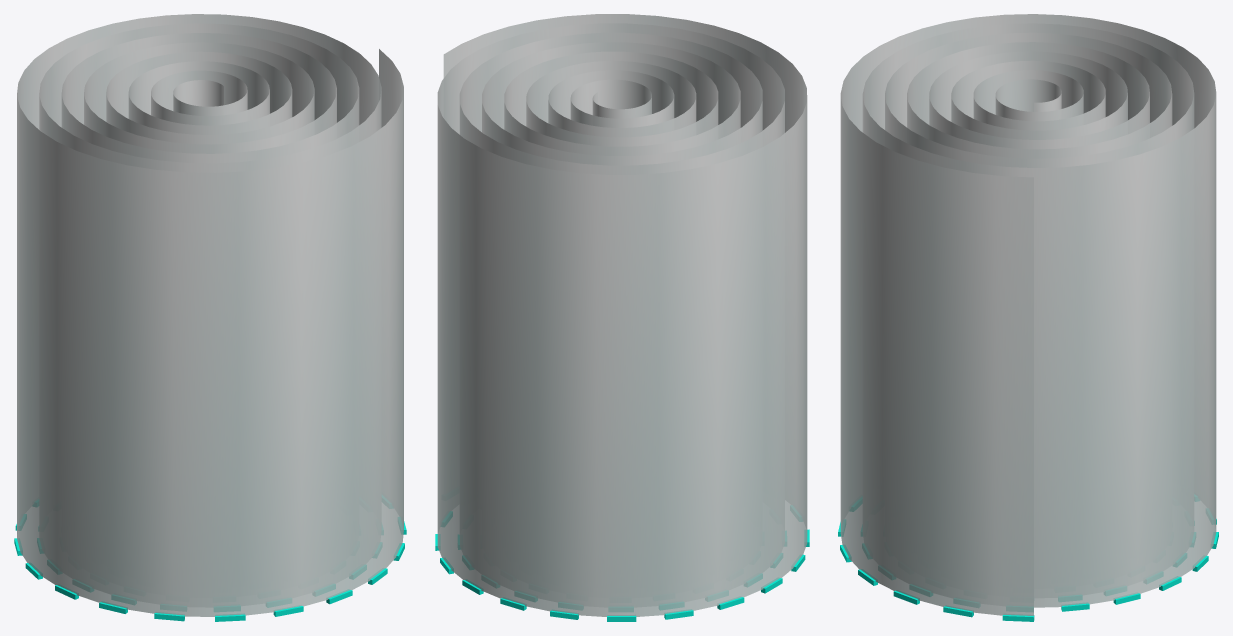
The model's file is yuansu11.dabc3eb.glb.
The picture shows the model from 3 angles, left to right: view 1: azimuth 30°, elevation 25°; view 2: azimuth 150°, elevation 25°; view 3: azimuth 270°, elevation 25°; orthographic projection.
Parts seen in each view (by area): view 1: yuansu13; view 2: yuansu13; view 3: yuansu13.
Part boxes in pixels (x1,y1,x2,y2): yuansu13: (14,14,406,621); yuansu13: (435,14,809,621); yuansu13: (838,14,1218,621).
Size of the model in its own units: 1.48 by 1.85 by 1.44.
2 materials, 1 textured.
